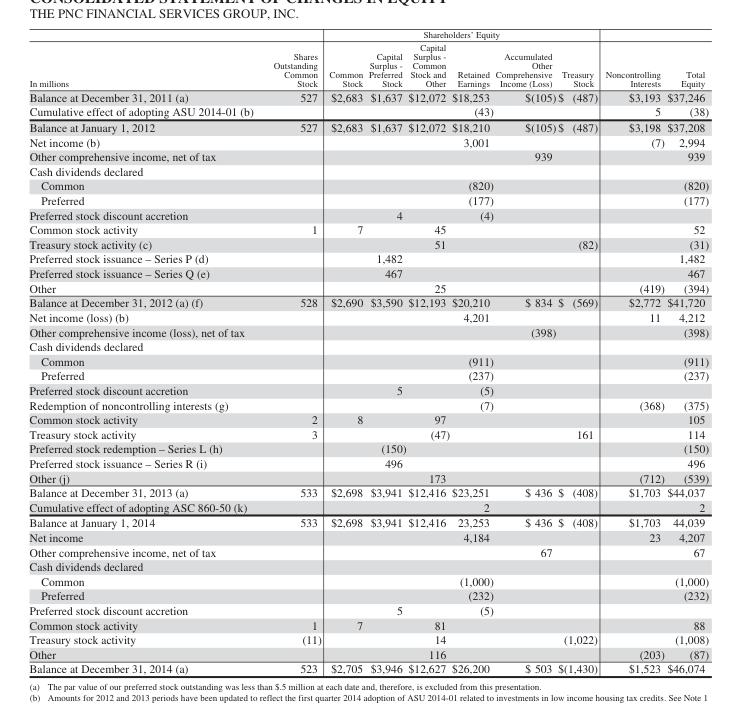table: (28, 29, 708, 674)
table column: (28, 29, 262, 674), (600, 29, 665, 674), (493, 29, 556, 674), (262, 29, 324, 674), (406, 29, 450, 674), (556, 29, 600, 674), (450, 29, 493, 674), (665, 29, 708, 674), (324, 29, 365, 674), (365, 29, 406, 674)
table column header: (28, 29, 708, 89)
table projected row header: (28, 163, 708, 178), (28, 338, 708, 353), (28, 558, 708, 573)
table row: (28, 40, 708, 89), (28, 89, 708, 104), (28, 104, 708, 119), (28, 119, 708, 134), (28, 148, 708, 163), (28, 163, 708, 178), (28, 192, 708, 207), (28, 207, 708, 222), (28, 236, 708, 251), (28, 265, 708, 280), (28, 280, 708, 295), (28, 309, 708, 324), (28, 338, 708, 353), (28, 353, 708, 368), (28, 382, 708, 397), (28, 411, 708, 426), (28, 426, 708, 441), (28, 455, 708, 470), (28, 484, 708, 499), (28, 499, 708, 514), (28, 514, 708, 529), (28, 529, 708, 544), (28, 558, 708, 573), (28, 573, 708, 588), (28, 602, 708, 617), (28, 631, 708, 646), (28, 646, 708, 661), (28, 134, 708, 148), (28, 178, 708, 192), (28, 222, 708, 236), (28, 251, 708, 265), (28, 295, 708, 309), (28, 324, 708, 338), (28, 368, 708, 382), (28, 397, 708, 411), (28, 441, 708, 455), (28, 470, 708, 484), (28, 544, 708, 558), (28, 588, 708, 602), (28, 617, 708, 631), (28, 661, 708, 674), (28, 29, 708, 40)
table spanning cell: (28, 29, 262, 89), (600, 29, 665, 89), (262, 29, 324, 89), (324, 29, 600, 40), (665, 29, 708, 89)
